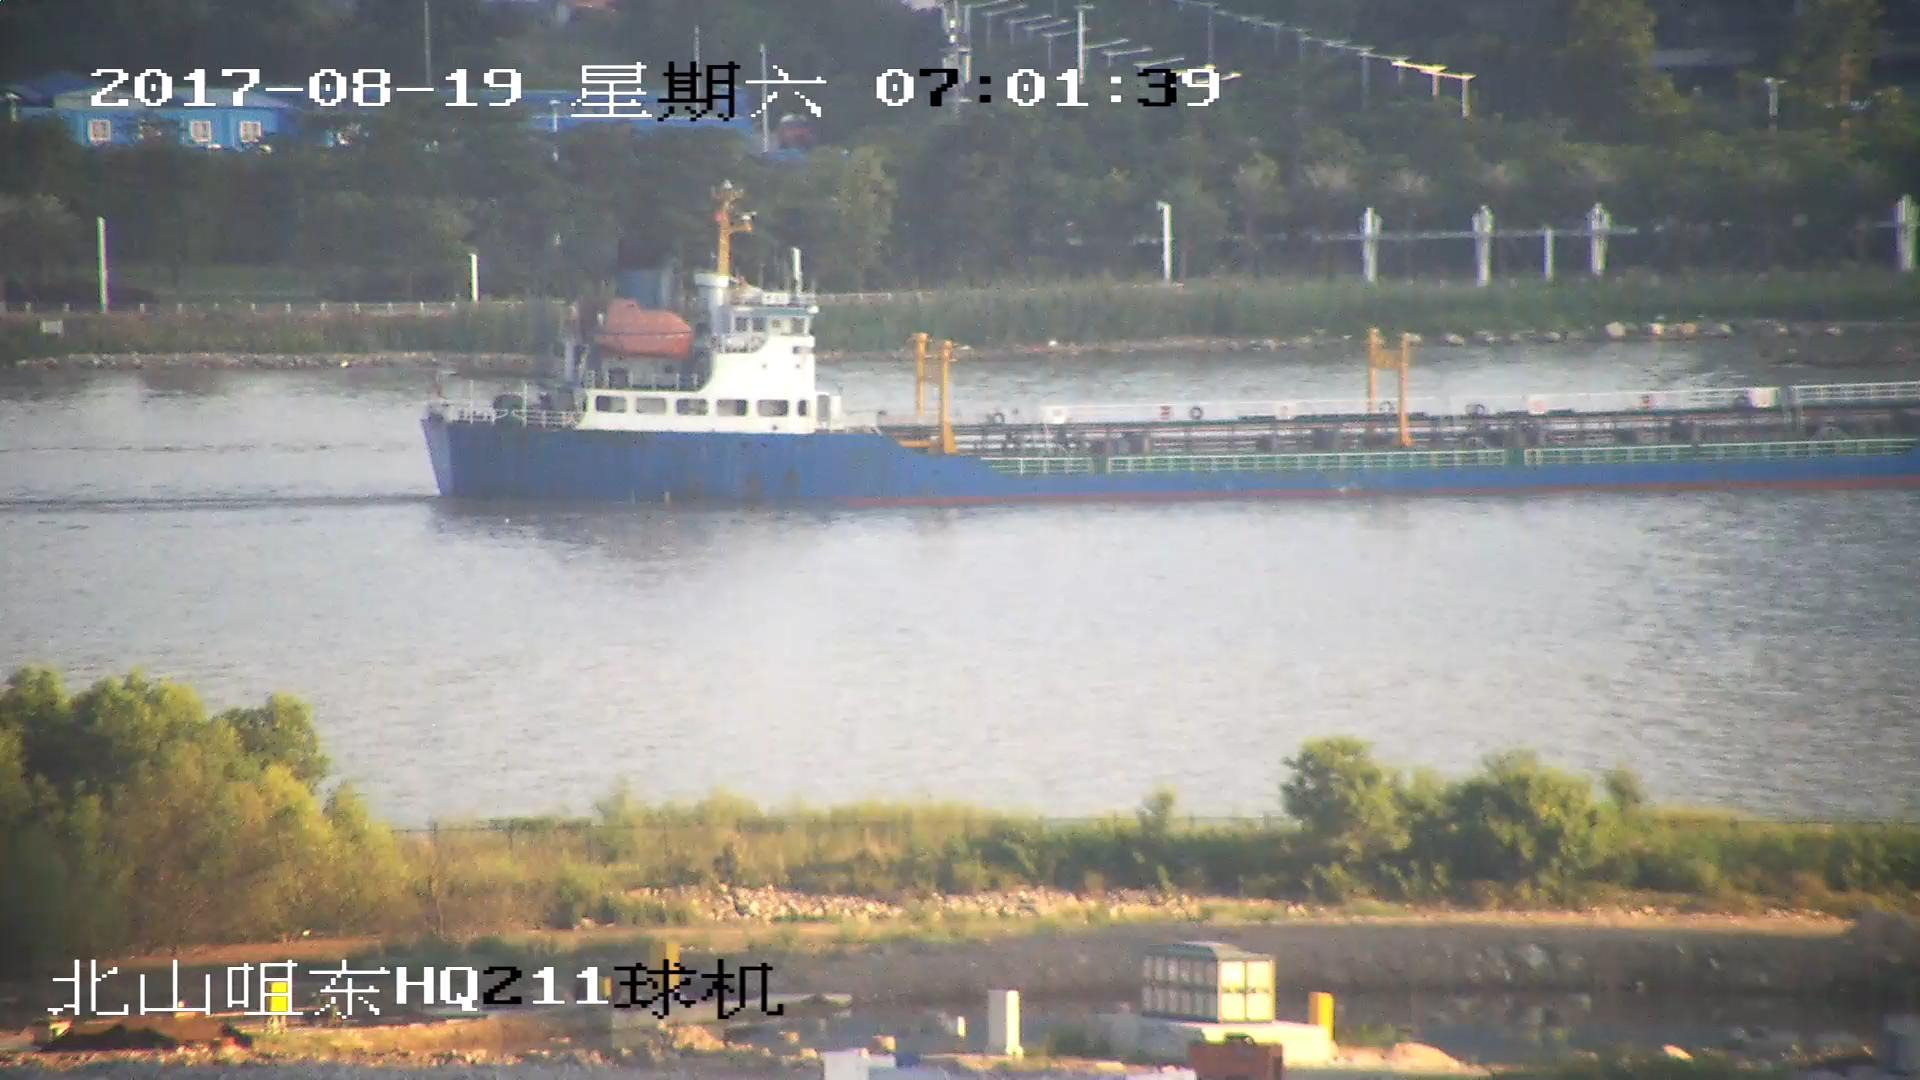Ship: (407, 195, 1920, 498)
